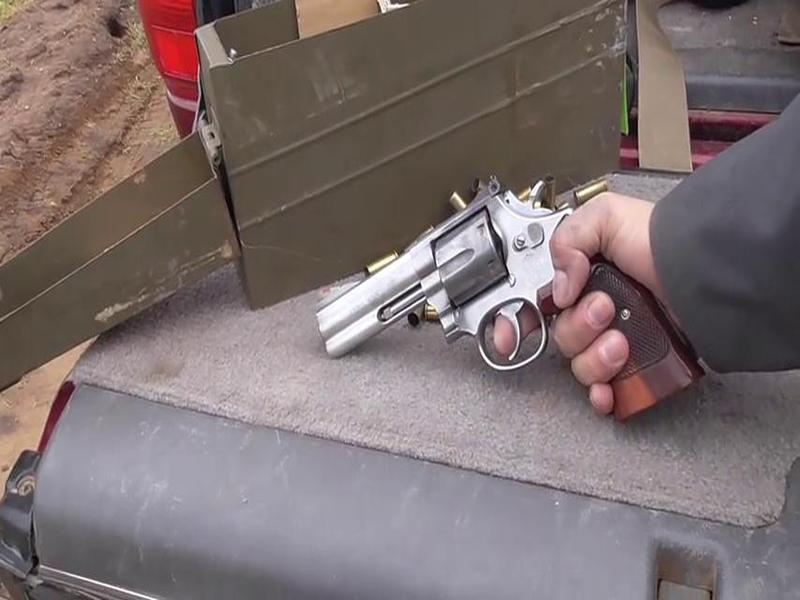Revolver: (310, 177, 620, 410)
